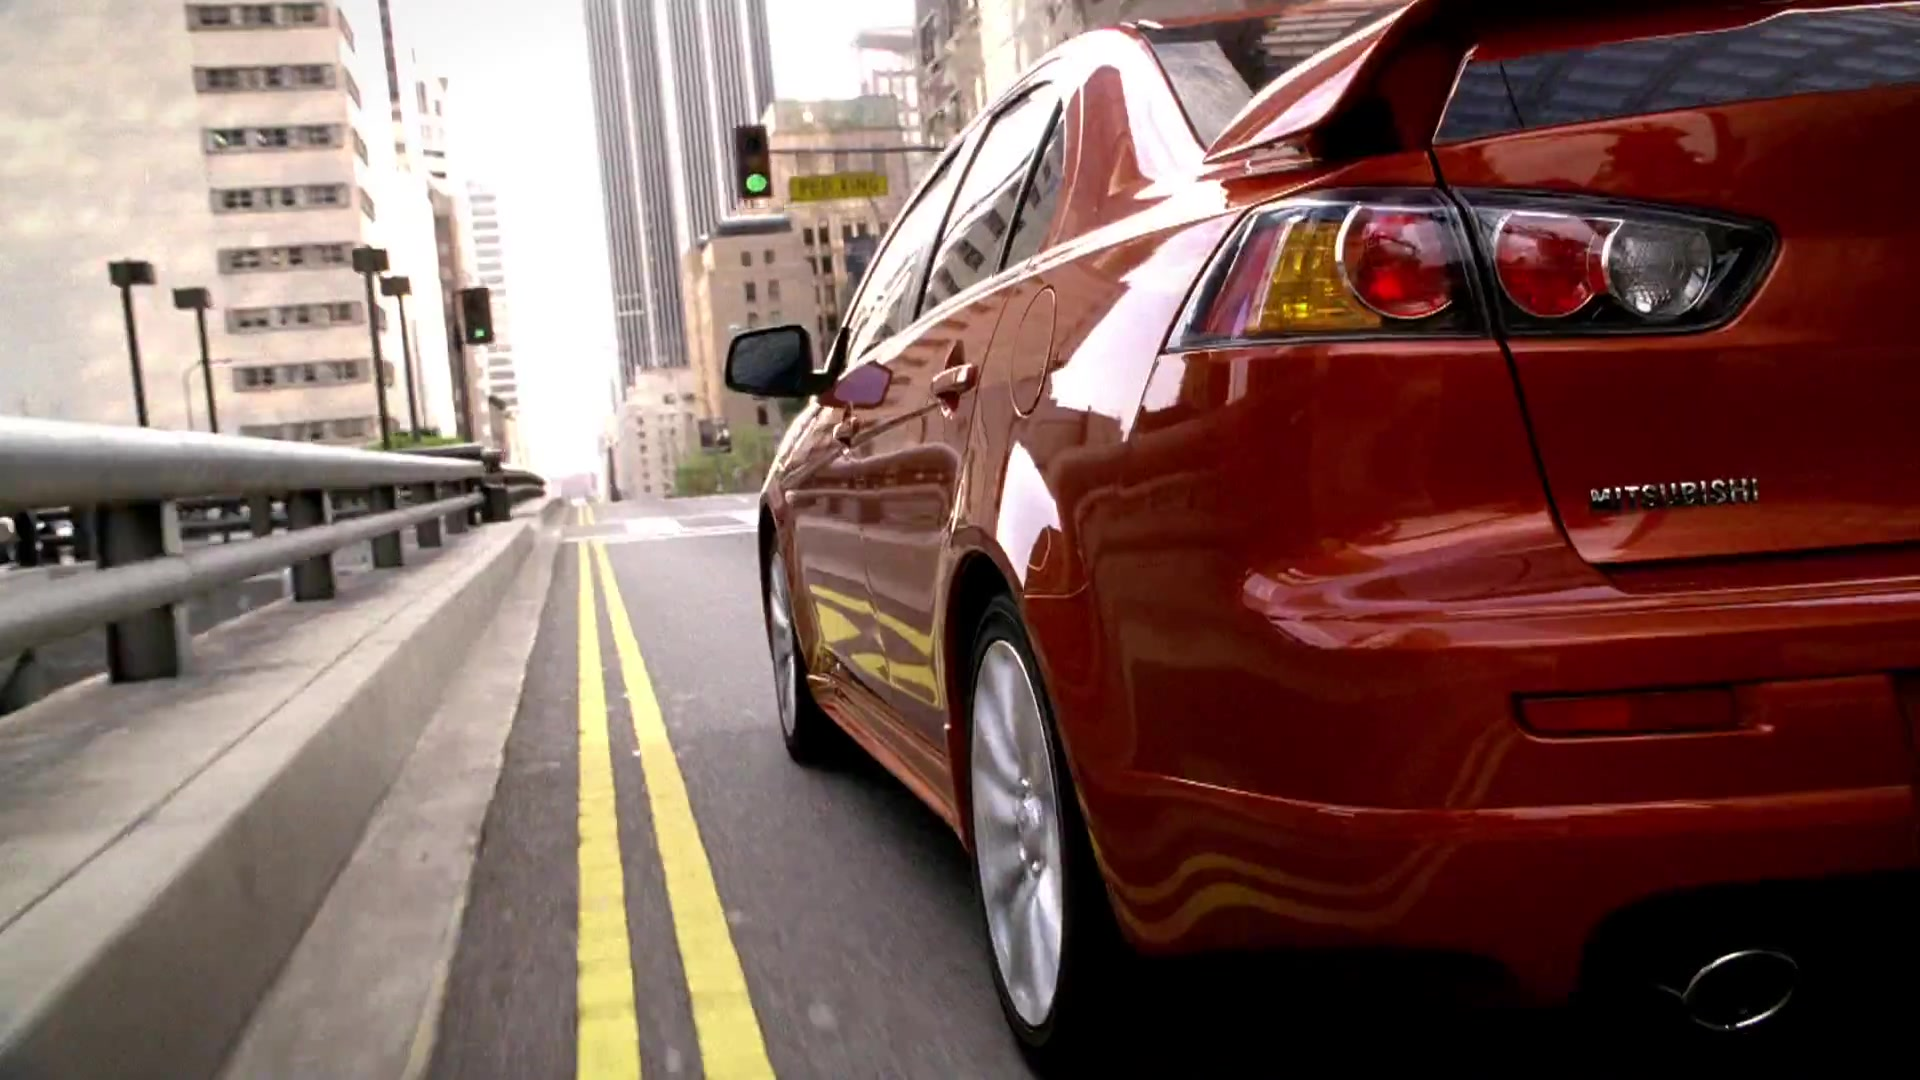car: (715, 5, 1920, 1077)
